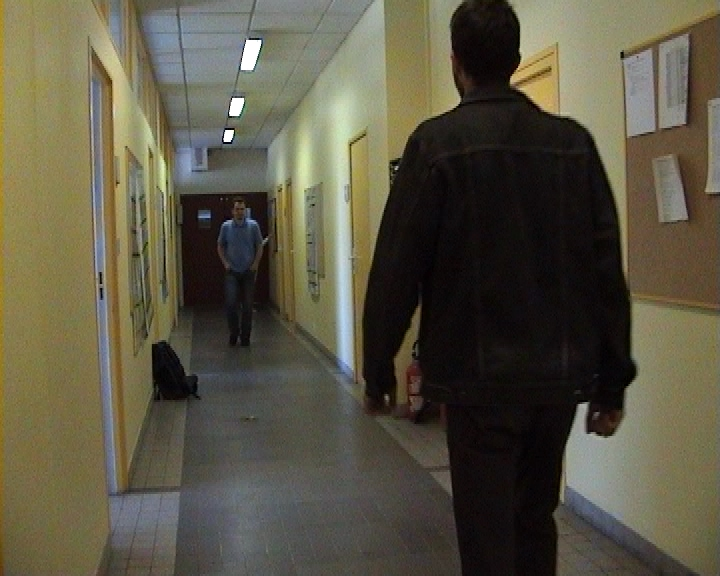leave bag unattended: (142, 328, 219, 416)
